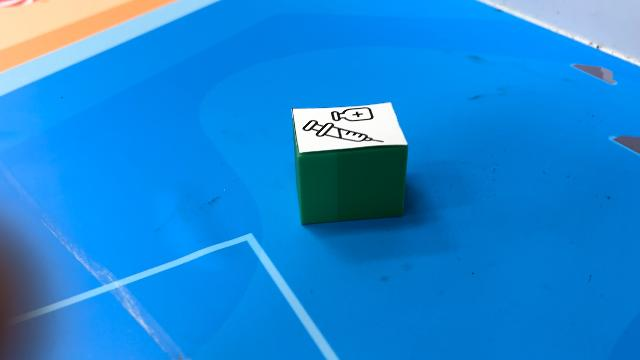syringe: (292, 101, 408, 225)
